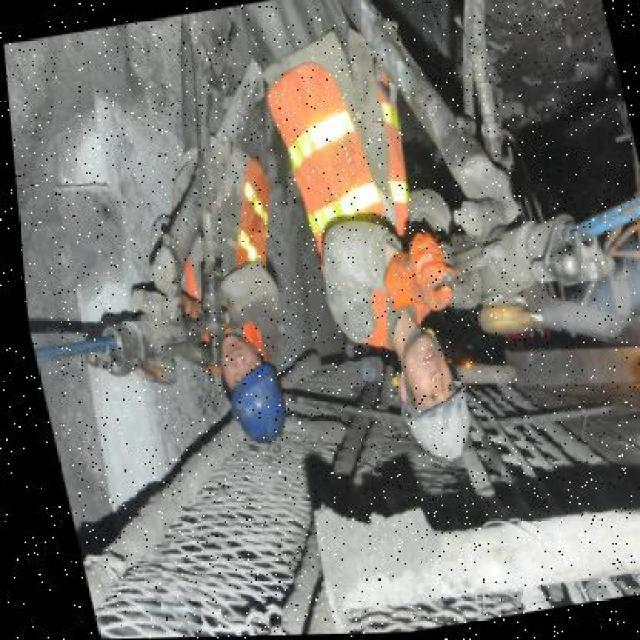helmet: (205, 345, 291, 455), (383, 368, 476, 466)
vest: (236, 34, 458, 353)
